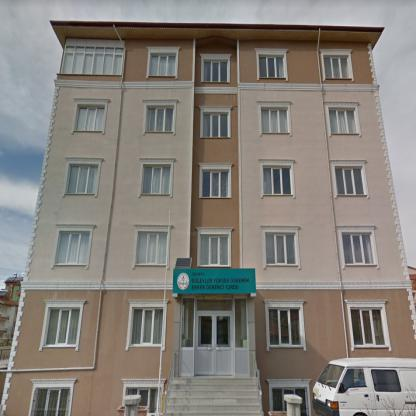door: (194, 310, 235, 376)
window: (179, 296, 250, 376), (58, 38, 125, 74), (347, 302, 391, 349), (41, 302, 80, 346), (266, 306, 305, 346), (128, 304, 163, 347), (262, 228, 300, 264), (29, 383, 72, 414), (331, 160, 367, 197), (133, 227, 168, 264), (53, 228, 89, 263), (340, 230, 376, 265), (270, 382, 309, 414), (198, 229, 230, 267), (124, 382, 162, 414), (63, 160, 99, 193), (261, 162, 294, 196), (72, 101, 106, 132), (327, 104, 359, 136), (259, 103, 291, 134), (140, 162, 171, 193), (322, 50, 353, 79), (143, 102, 174, 131), (147, 49, 177, 78), (201, 108, 229, 138), (200, 168, 230, 196), (202, 54, 229, 82), (257, 52, 286, 78)
